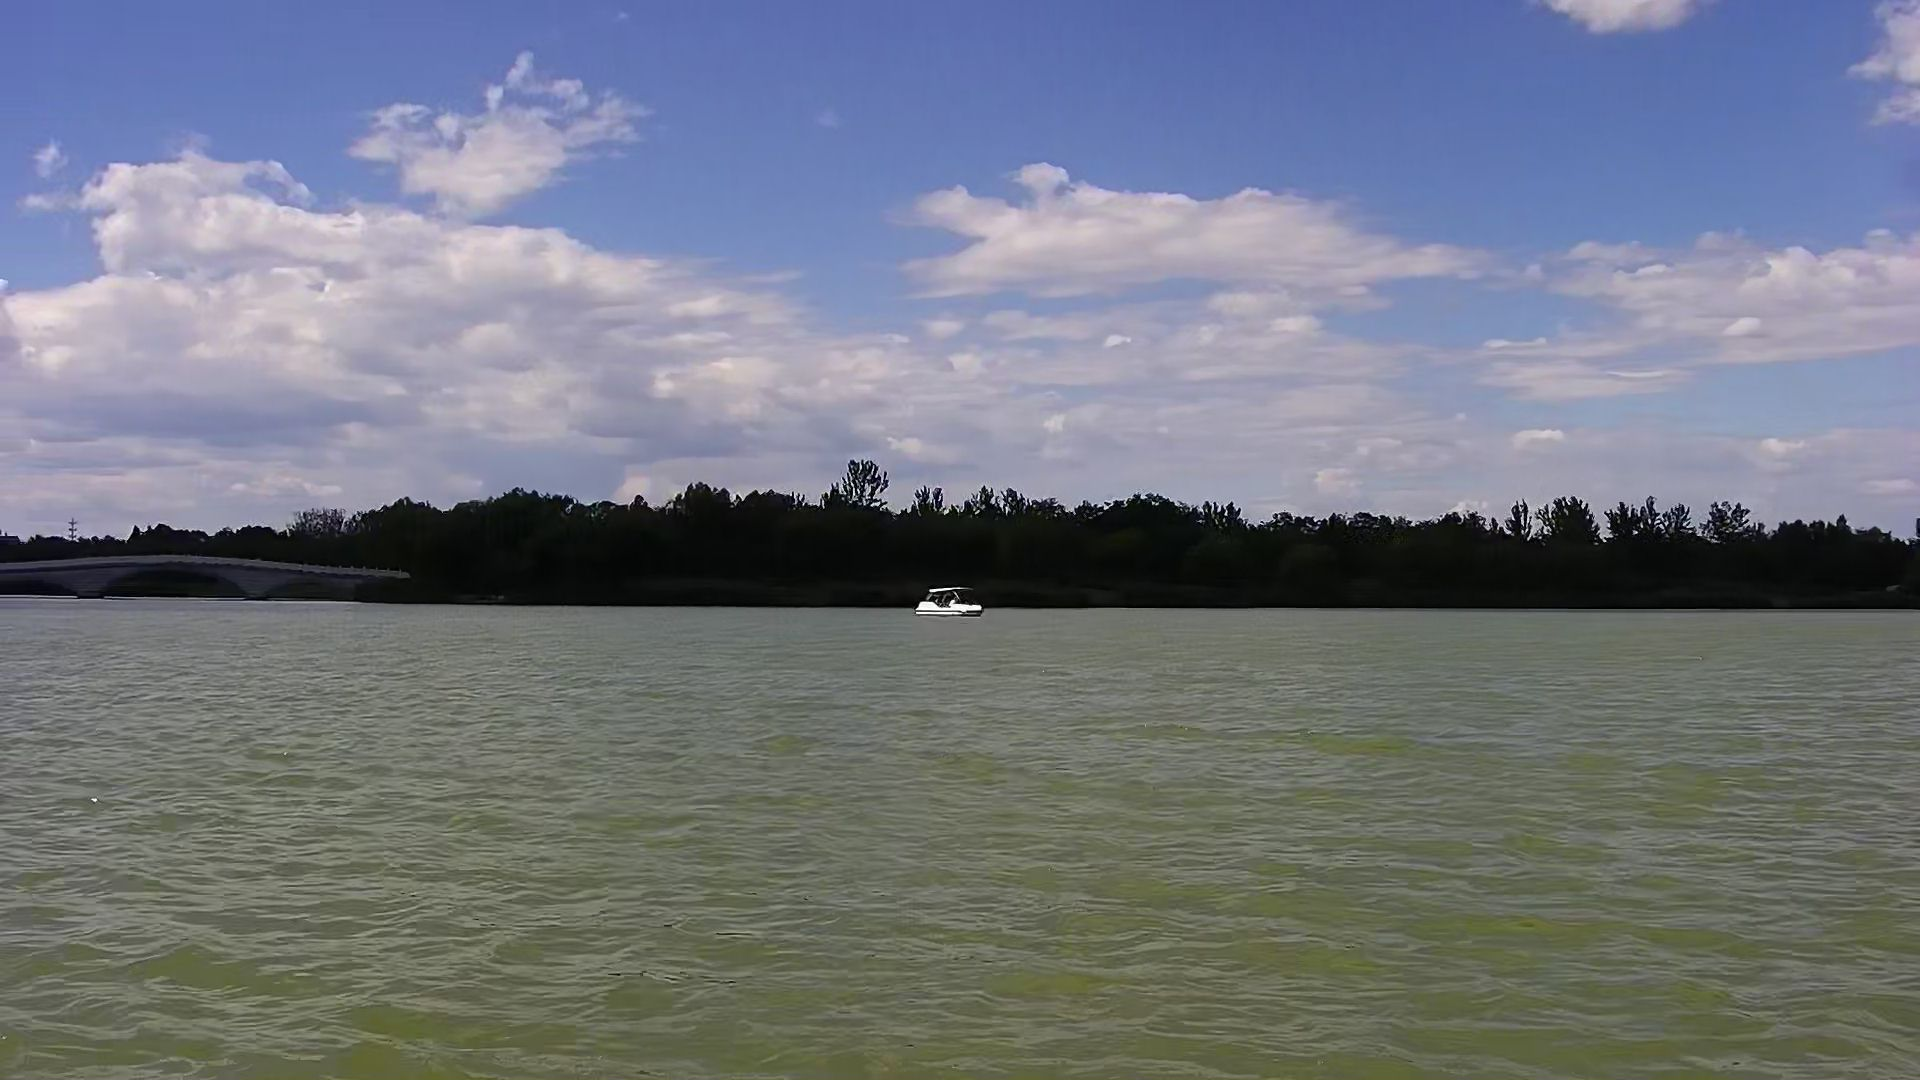boat: (911, 582, 988, 620)
bridge: (1, 547, 417, 608)
